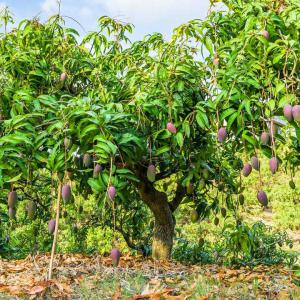Tree: (2, 0, 300, 272)
